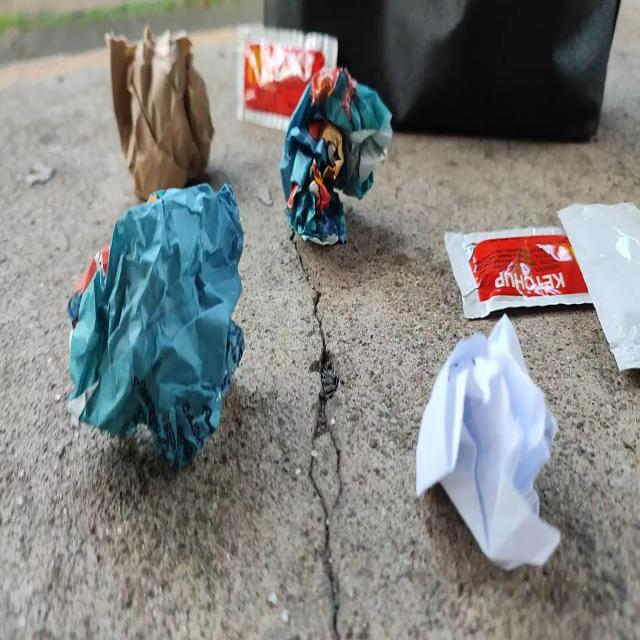paper: (55, 166, 255, 456), (408, 313, 570, 587), (90, 17, 224, 206), (278, 57, 396, 267)
